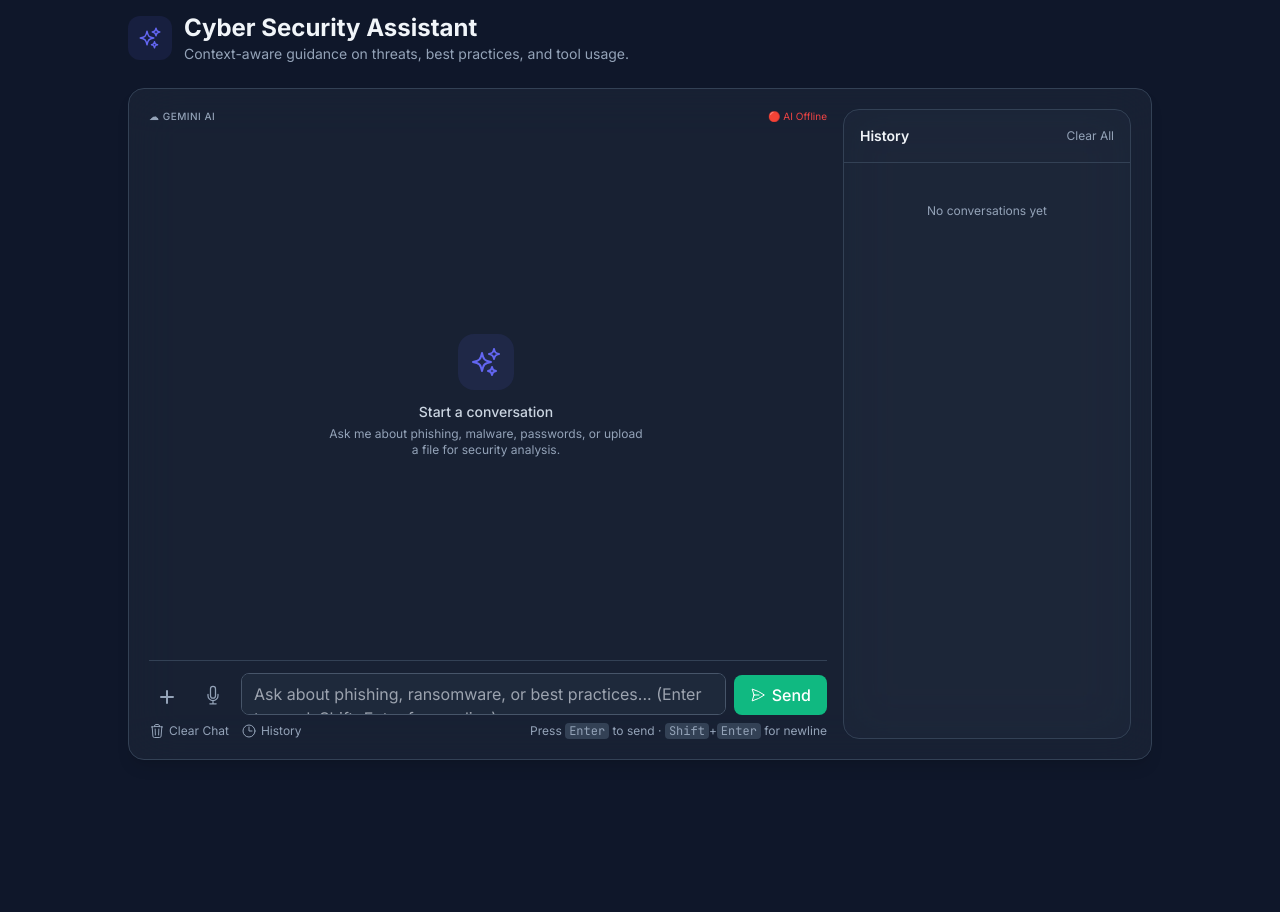
Test: AI Chatbot › shows error state when AI fails
In the text box with placeholder "Ask about phishing": point(483, 694) [241,673,726,715], type "Test"
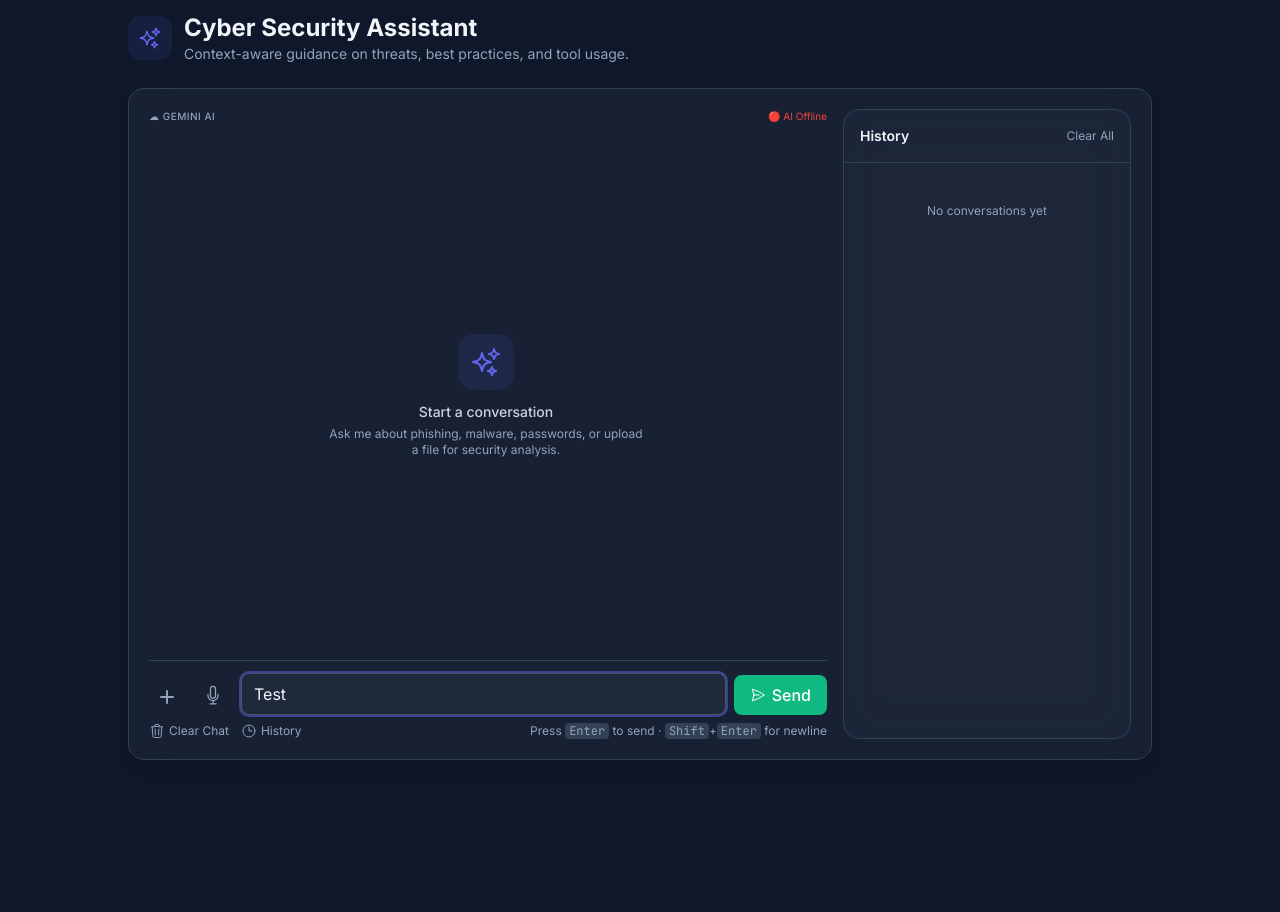
Click the button "Send": point(780, 695) [734,675,827,715]
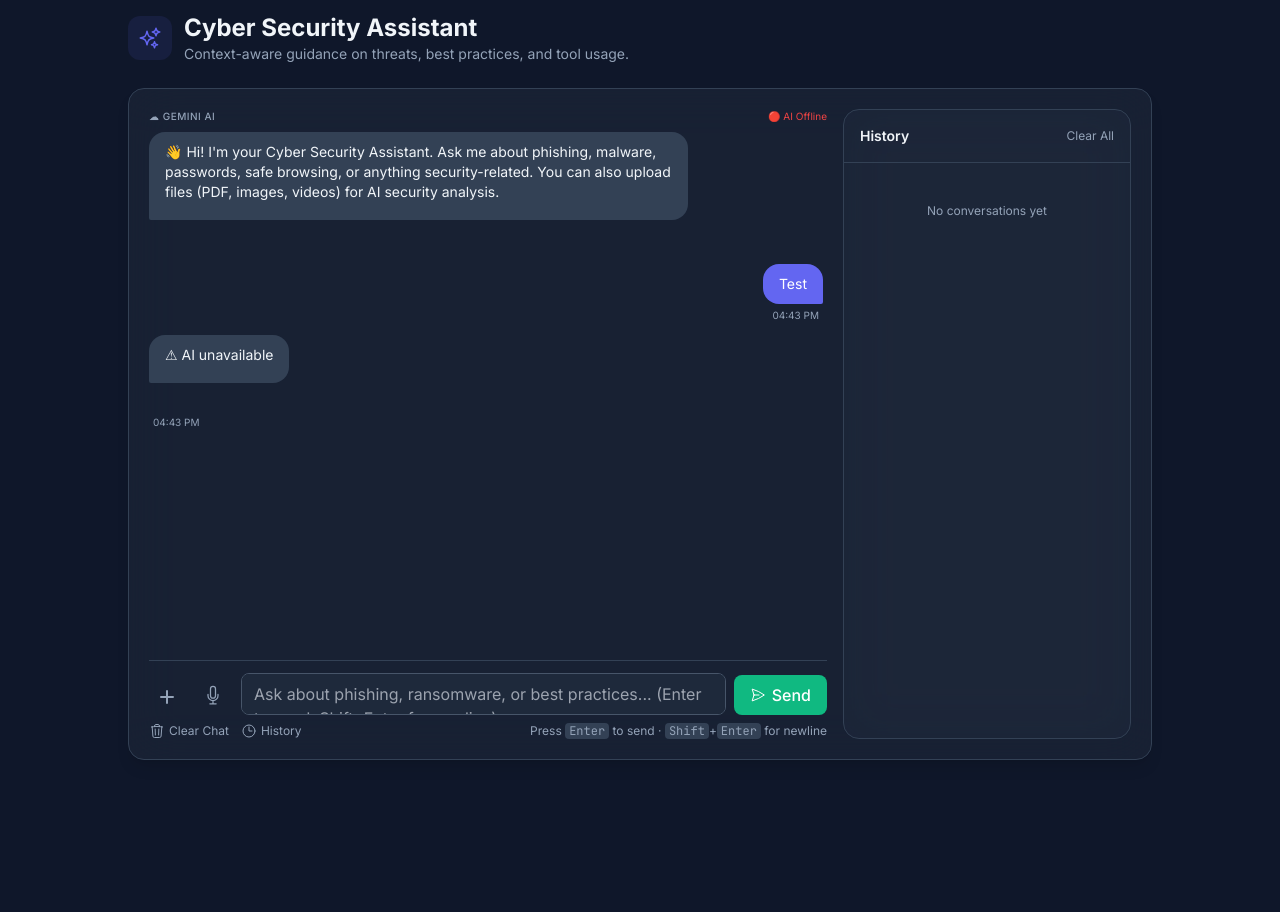
Check: the text "⚠ AI unavailable" is shown, box [165,345,274,365]
